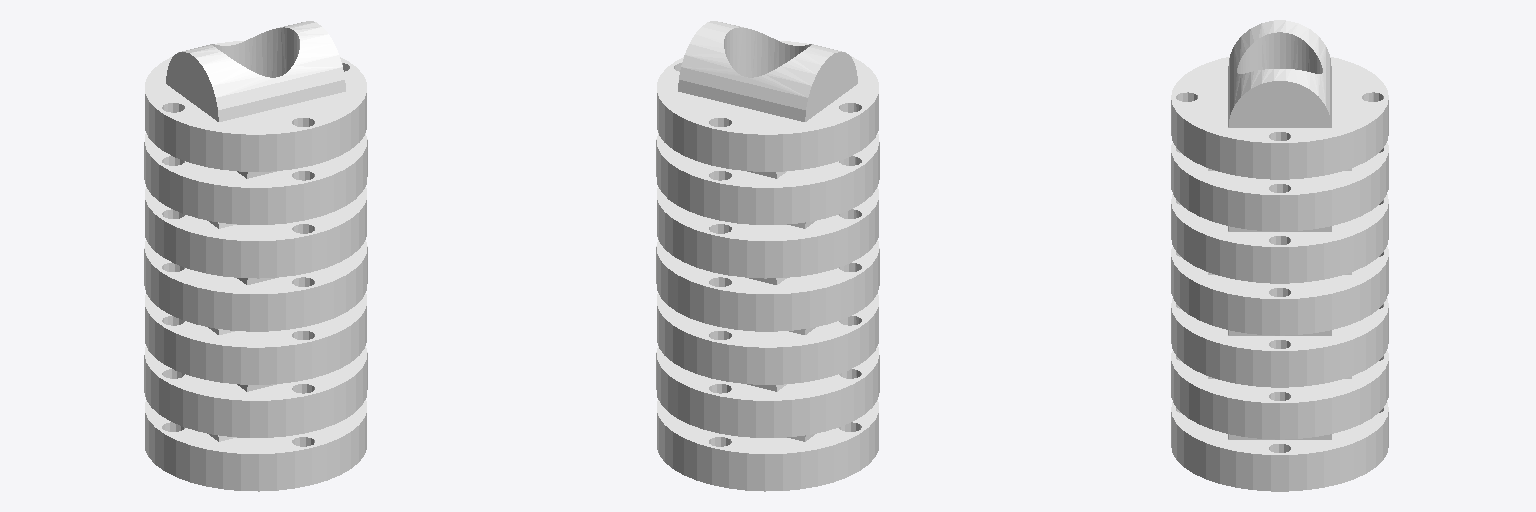
robot.urdf — cylinder_joint_3_pairs_asm.SLDASM:
<?xml version="1.0" encoding="utf-8"?>
<!-- This URDF was automatically created by SolidWorks to URDF Exporter! Originally created by [author] ([email redacted]) 
     Commit Version: 1.5.1-0-g916b5db  Build Version: 1.5.7152.31018
     For more information, please see http://wiki.ros.org/sw_urdf_exporter -->
<robot
  name="cylinder_joint_3_pairs_asm.SLDASM">
  <link
    name="link0">
    <inertial>
      <origin
        xyz="-2.21907652596428E-08 -1.16344392510795E-08 0.000538247791607803"
        rpy="0 0 0" />
      <mass
        value="7.14380964147276E-06" />
      <inertia
        ixx="7.09547840102883E-12"
        ixy="4.28536440220919E-17"
        ixz="7.2733077718843E-17"
        iyy="8.71236658742558E-12"
        iyz="1.14893231592751E-16"
        izz="1.39367891333543E-11" />
    </inertial>
    <visual>
      <origin
        xyz="0 0 0"
        rpy="0 0 0" />
      <geometry>
        <mesh
          filename="package://cylinder_joint_3_pairs_asm.SLDASM/meshes/link0.STL" />
      </geometry>
      <material
        name="">
        <color
          rgba="1 1 1 1" />
      </material>
    </visual>
    <collision>
      <origin
        xyz="0 0 0"
        rpy="0 0 0" />
      <geometry>
        <mesh
          filename="package://cylinder_joint_3_pairs_asm.SLDASM/meshes/link0.STL" />
      </geometry>
    </collision>
  </link>
  <link
    name="link1">
    <inertial>
      <origin
        xyz="2.21907652597519E-08 0.000838247791607803 -1.1634439251032E-08"
        rpy="0 0 0" />
      <mass
        value="7.14380964147277E-06" />
      <inertia
        ixx="7.09547840102883E-12"
        ixy="-7.27330777190003E-17"
        ixz="-4.28536440221508E-17"
        iyy="1.39367891333544E-11"
        iyz="1.14893231591848E-16"
        izz="8.71236658742559E-12" />
    </inertial>
    <visual>
      <origin
        xyz="0 0 0"
        rpy="0 0 0" />
      <geometry>
        <mesh
          filename="package://cylinder_joint_3_pairs_asm.SLDASM/meshes/link1.STL" />
      </geometry>
      <material
        name="">
        <color
          rgba="1 1 1 1" />
      </material>
    </visual>
    <collision>
      <origin
        xyz="0 0 0"
        rpy="0 0 0" />
      <geometry>
        <mesh
          filename="package://cylinder_joint_3_pairs_asm.SLDASM/meshes/link1.STL" />
      </geometry>
    </collision>
  </link>
  <joint
    name="joint1"
    type="revolute">
    <origin
      xyz="0 0 0.0007"
      rpy="1.5708 0 1.5708" />
    <parent
      link="link0" />
    <child
      link="link1" />
    <axis
      xyz="0 0 -1" />
    <limit
      lower="-0.157"
      upper="0.157"
      effort="100"
      velocity="1" />
  </joint>
  <link
    name="link2">
    <inertial>
      <origin
        xyz="2.21907652596375E-08 0.000838247791607803 -1.16344392512821E-08"
        rpy="0 0 0" />
      <mass
        value="7.14380964147276E-06" />
      <inertia
        ixx="7.09547840102883E-12"
        ixy="-7.2733077718771E-17"
        ixz="-4.28536440221158E-17"
        iyy="1.39367891333544E-11"
        iyz="1.14893231591565E-16"
        izz="8.71236658742558E-12" />
    </inertial>
    <visual>
      <origin
        xyz="0 0 0"
        rpy="0 0 0" />
      <geometry>
        <mesh
          filename="package://cylinder_joint_3_pairs_asm.SLDASM/meshes/link2.STL" />
      </geometry>
      <material
        name="">
        <color
          rgba="1 1 1 1" />
      </material>
    </visual>
    <collision>
      <origin
        xyz="0 0 0"
        rpy="0 0 0" />
      <geometry>
        <mesh
          filename="package://cylinder_joint_3_pairs_asm.SLDASM/meshes/link2.STL" />
      </geometry>
    </collision>
  </link>
  <joint
    name="joint2"
    type="revolute">
    <origin
      xyz="0 0.001 0"
      rpy="0 -1.5708 0" />
    <parent
      link="link1" />
    <child
      link="link2" />
    <axis
      xyz="0 0 -1" />
    <limit
      lower="-0.157"
      upper="0.157"
      effort="100"
      velocity="1" />
  </joint>
  <link
    name="link3">
    <inertial>
      <origin
        xyz="-2.21907652596816E-08 0.000838247791607803 1.16344392514508E-08"
        rpy="0 0 0" />
      <mass
        value="7.14380964147276E-06" />
      <inertia
        ixx="7.09547840102883E-12"
        ixy="7.27330777184924E-17"
        ixz="-4.28536440225979E-17"
        iyy="1.39367891333544E-11"
        iyz="-1.14893231591718E-16"
        izz="8.71236658742559E-12" />
    </inertial>
    <visual>
      <origin
        xyz="0 0 0"
        rpy="0 0 0" />
      <geometry>
        <mesh
          filename="package://cylinder_joint_3_pairs_asm.SLDASM/meshes/link3.STL" />
      </geometry>
      <material
        name="">
        <color
          rgba="1 1 1 1" />
      </material>
    </visual>
    <collision>
      <origin
        xyz="0 0 0"
        rpy="0 0 0" />
      <geometry>
        <mesh
          filename="package://cylinder_joint_3_pairs_asm.SLDASM/meshes/link3.STL" />
      </geometry>
    </collision>
  </link>
  <joint
    name="joint3"
    type="revolute">
    <origin
      xyz="0 0.001 0"
      rpy="0 1.5708 0" />
    <parent
      link="link2" />
    <child
      link="link3" />
    <axis
      xyz="0 0 1" />
    <limit
      lower="-0.157"
      upper="0.157"
      effort="100"
      velocity="1" />
  </joint>
  <link
    name="link4">
    <inertial>
      <origin
        xyz="2.21907652595922E-08 0.000838247791607803 -1.16344392505532E-08"
        rpy="0 0 0" />
      <mass
        value="7.14380964147276E-06" />
      <inertia
        ixx="7.09547840102882E-12"
        ixy="-7.27330777185742E-17"
        ixz="-4.28536440226602E-17"
        iyy="1.39367891333543E-11"
        iyz="1.14893231591943E-16"
        izz="8.71236658742557E-12" />
    </inertial>
    <visual>
      <origin
        xyz="0 0 0"
        rpy="0 0 0" />
      <geometry>
        <mesh
          filename="package://cylinder_joint_3_pairs_asm.SLDASM/meshes/link4.STL" />
      </geometry>
      <material
        name="">
        <color
          rgba="1 1 1 1" />
      </material>
    </visual>
    <collision>
      <origin
        xyz="0 0 0"
        rpy="0 0 0" />
      <geometry>
        <mesh
          filename="package://cylinder_joint_3_pairs_asm.SLDASM/meshes/link4.STL" />
      </geometry>
    </collision>
  </link>
  <joint
    name="joint4"
    type="revolute">
    <origin
      xyz="0 0.001 0"
      rpy="0 -1.5708 0" />
    <parent
      link="link3" />
    <child
      link="link4" />
    <axis
      xyz="0 0 1" />
    <limit
      lower="-0.157"
      upper="0.157"
      effort="100"
      velocity="1" />
  </joint>
  <link
    name="link5">
    <inertial>
      <origin
        xyz="-2.21907652597802E-08 0.000838247791607805 1.16344392510302E-08"
        rpy="0 0 0" />
      <mass
        value="7.14380964147276E-06" />
      <inertia
        ixx="7.09547840102882E-12"
        ixy="7.27330777185315E-17"
        ixz="-4.28536440225276E-17"
        iyy="1.39367891333543E-11"
        iyz="-1.14893231591771E-16"
        izz="8.71236658742557E-12" />
    </inertial>
    <visual>
      <origin
        xyz="0 0 0"
        rpy="0 0 0" />
      <geometry>
        <mesh
          filename="package://cylinder_joint_3_pairs_asm.SLDASM/meshes/link5.STL" />
      </geometry>
      <material
        name="">
        <color
          rgba="1 1 1 1" />
      </material>
    </visual>
    <collision>
      <origin
        xyz="0 0 0"
        rpy="0 0 0" />
      <geometry>
        <mesh
          filename="package://cylinder_joint_3_pairs_asm.SLDASM/meshes/link5.STL" />
      </geometry>
    </collision>
  </link>
  <joint
    name="joint5"
    type="revolute">
    <origin
      xyz="0 0.001 0"
      rpy="0 1.5708 0" />
    <parent
      link="link4" />
    <child
      link="link5" />
    <axis
      xyz="0 0 1" />
    <limit
      lower="-0.157"
      upper="0.157"
      effort="100"
      velocity="1" />
  </joint>
  <link
    name="link6">
    <inertial>
      <origin
        xyz="2.21907652596063E-08 0.000838247791607804 -1.16344392499518E-08"
        rpy="0 0 0" />
      <mass
        value="7.14380964147276E-06" />
      <inertia
        ixx="7.09547840102882E-12"
        ixy="-7.27330777187847E-17"
        ixz="-4.28536440227107E-17"
        iyy="1.39367891333543E-11"
        iyz="1.1489323159158E-16"
        izz="8.71236658742557E-12" />
    </inertial>
    <visual>
      <origin
        xyz="0 0 0"
        rpy="0 0 0" />
      <geometry>
        <mesh
          filename="package://cylinder_joint_3_pairs_asm.SLDASM/meshes/link6.STL" />
      </geometry>
      <material
        name="">
        <color
          rgba="1 1 1 1" />
      </material>
    </visual>
    <collision>
      <origin
        xyz="0 0 0"
        rpy="0 0 0" />
      <geometry>
        <mesh
          filename="package://cylinder_joint_3_pairs_asm.SLDASM/meshes/link6.STL" />
      </geometry>
    </collision>
  </link>
  <joint
    name="joint6"
    type="revolute">
    <origin
      xyz="0 0.001 0"
      rpy="0 -1.5708 0" />
    <parent
      link="link5" />
    <child
      link="link6" />
    <axis
      xyz="0 0 1" />
    <limit
      lower="-0.157"
      upper="0.157"
      effort="100"
      velocity="1" />
  </joint>
  <link
    name="linkEnd">
    <inertial>
      <origin
        xyz="1.16344392513296E-08 -0.000161752208392195 2.21907652591863E-08"
        rpy="0 0 0" />
      <mass
        value="7.14380964147276E-06" />
      <inertia
        ixx="8.71236658742557E-12"
        ixy="-1.1489323159158E-16"
        ixz="4.28536440227107E-17"
        iyy="1.39367891333543E-11"
        iyz="-7.27330777187904E-17"
        izz="7.09547840102882E-12" />
    </inertial>
    <visual>
      <origin
        xyz="0 0 0"
        rpy="0 0 0" />
      <geometry>
        <mesh
          filename="package://cylinder_joint_3_pairs_asm.SLDASM/meshes/linkEnd.STL" />
      </geometry>
      <material
        name="">
        <color
          rgba="1 1 1 1" />
      </material>
    </visual>
    <collision>
      <origin
        xyz="0 0 0"
        rpy="0 0 0" />
      <geometry>
        <mesh
          filename="package://cylinder_joint_3_pairs_asm.SLDASM/meshes/linkEnd.STL" />
      </geometry>
    </collision>
  </link>
  <joint
    name="jointEnd"
    type="fixed">
    <origin
      xyz="0 0.001 0"
      rpy="0 1.5708 0" />
    <parent
      link="link6" />
    <child
      link="linkEnd" />
    <axis
      xyz="0 0 0" />
    <limit
      lower="0"
      upper="0"
      effort="100"
      velocity="1" />
  </joint>
</robot>

--- Render facts (derived) ---
3 views of the same robot in one strip: view 1: azimuth 30°, elevation 25°; view 2: azimuth 150°, elevation 25°; view 3: azimuth 270°, elevation 25° (orthographic).
Robot: cylinder_joint_3_pairs_asm.SLDASM — 8 links, 7 joints (6 revolute, 1 fixed); root link link0; default pose: all joints at 0.
Links seen in each view (by area): view 1: link6, linkEnd, link3, link1, link5, link4, link0, link2; view 2: linkEnd, link6, link3, link1, link5, link4, link0, link2; view 3: linkEnd, link6, link0, link2, link4, link5, link3, link1.
Boxes of the visible links, x1,y1,x2,y2 form: link6: (145,22,366,171); linkEnd: (145,21,366,171); link3: (144,240,367,331); link1: (144,346,367,437); link5: (144,133,367,224); link4: (145,187,366,278); link0: (145,400,366,491); link2: (145,293,366,384); linkEnd: (657,23,878,171); link6: (657,21,878,171); link3: (656,240,879,331); link1: (656,346,879,437); link5: (656,133,879,224); link4: (657,187,878,278); link0: (657,400,878,491); link2: (657,293,878,384); linkEnd: (1171,21,1387,179); link6: (1172,20,1388,179); link0: (1171,402,1388,491); link2: (1171,298,1388,387); link4: (1171,194,1388,283); link5: (1171,143,1388,231); link3: (1171,247,1388,335); link1: (1171,351,1388,439).
Size in the robot's own frame: 0.0038 by 0.0038 by 0.0076 metres.
8 mesh visuals loaded from 8 distinct referenced files (8 binary STL).